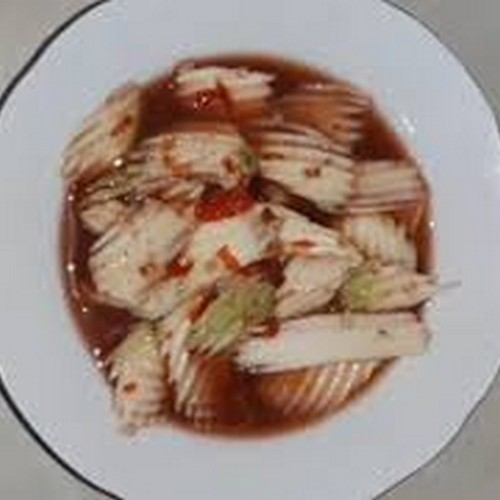rujak buleleng: (73, 46, 417, 426)
